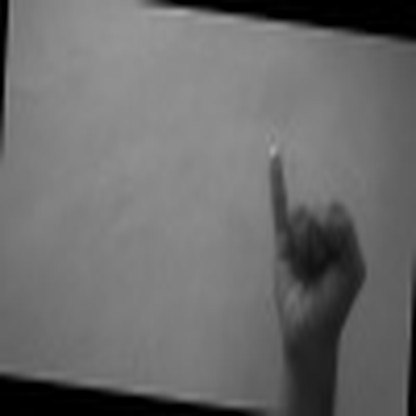i: (237, 112, 370, 347)
